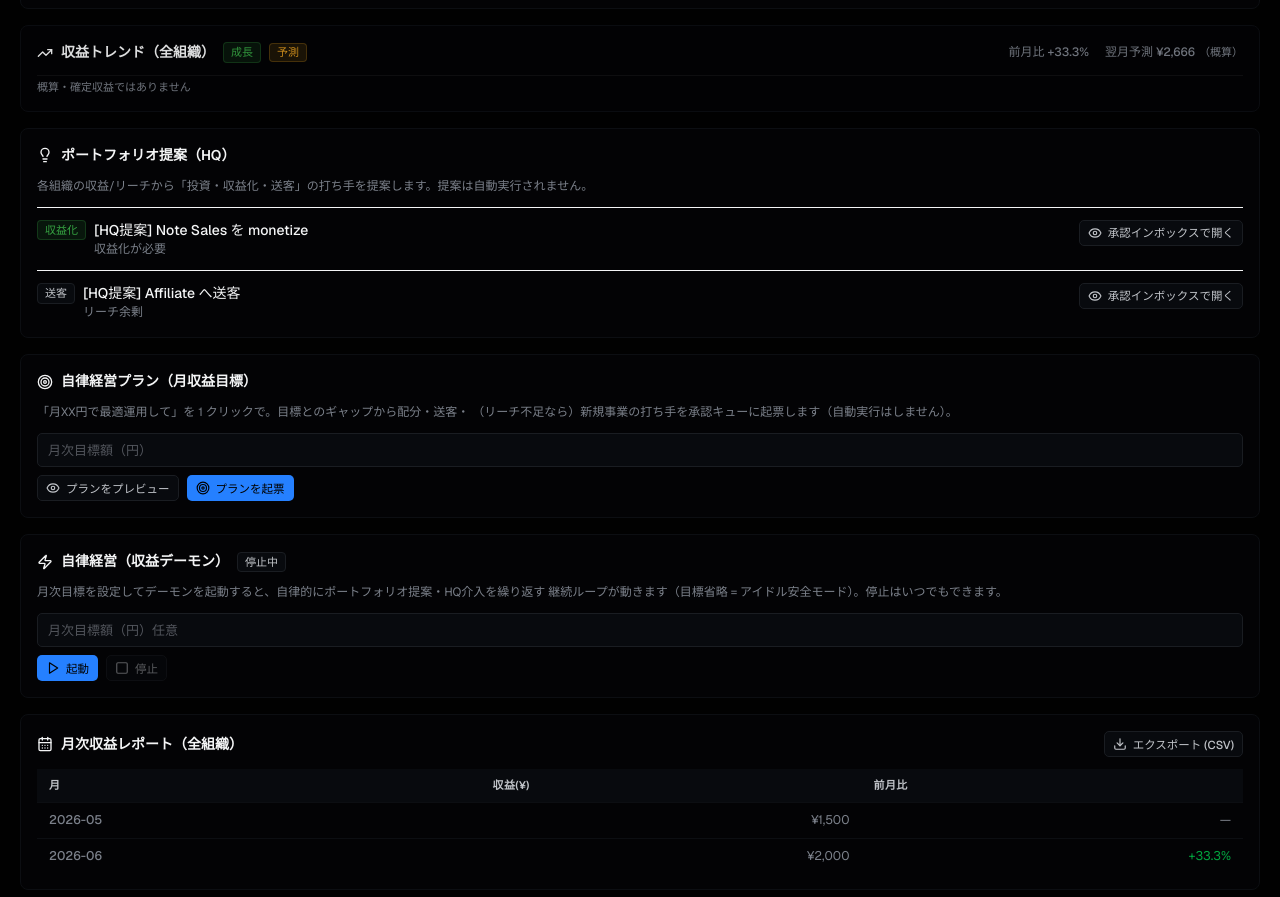
Scenario: 目標到達の見通し（projection card） › 到達可能ケース: 目標を入力すると「約Nか月で到達見込み」を表示する
The width and height of the screenshot is (1280, 897).
(page scrolled)
Expected: the text "自律経営プラン（月収益目標）" is shown, top-left (61, 371), bottom-right (257, 392)
Type "100000" into the number field with placeholder "月次目標額（円）".
click(640, 450); type("100000")  # box top-left (37, 433), bottom-right (1243, 467)
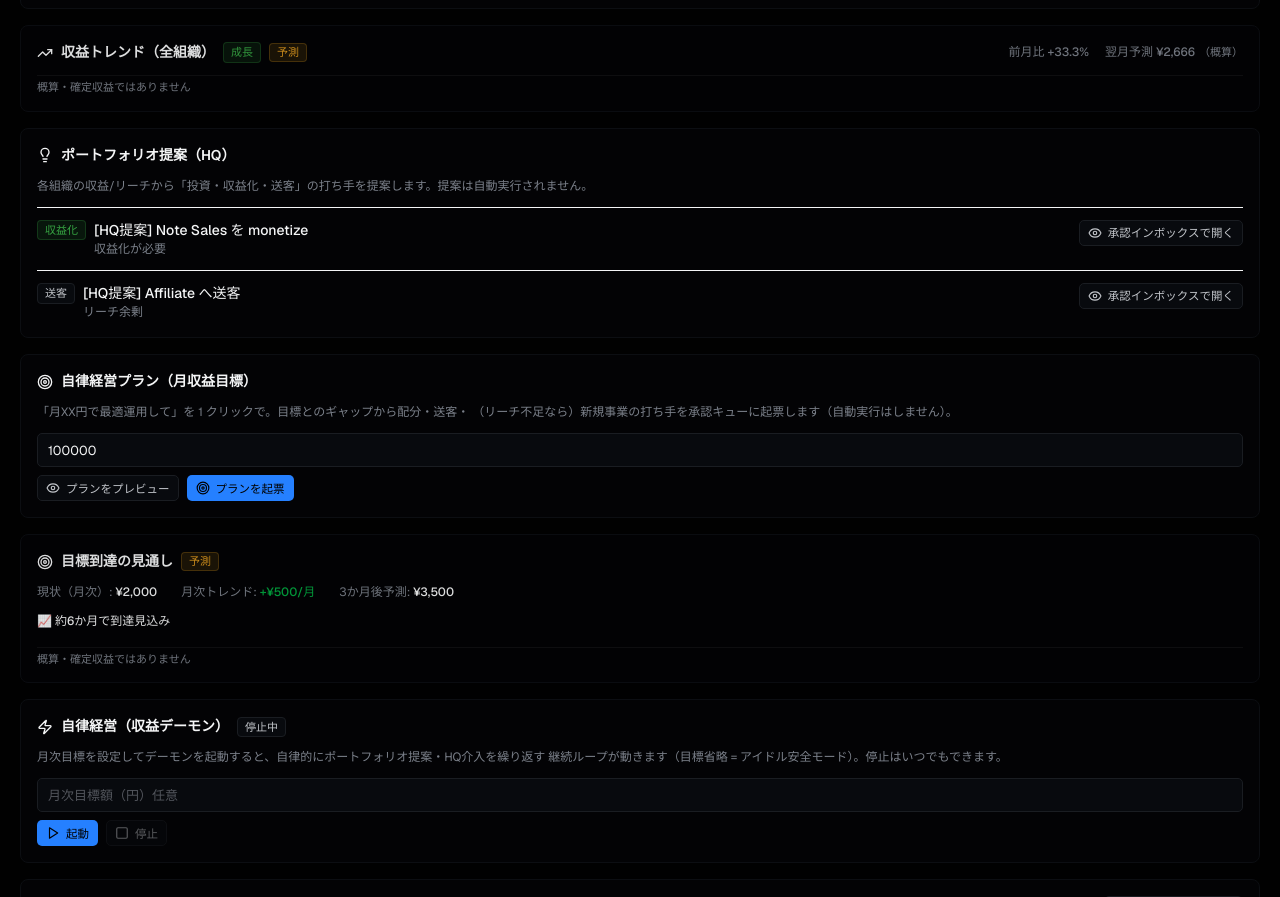
Expected: the text "目標到達の見通し" is shown, top-left (61, 551), bottom-right (173, 572)
Expected: the text "📈 約6か月で到達見込み" is shown, top-left (37, 614), bottom-right (170, 630)
